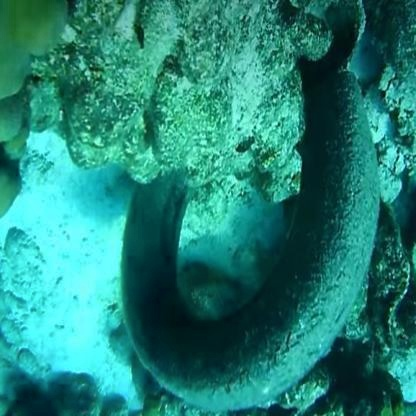tire: (121, 23, 371, 409)
